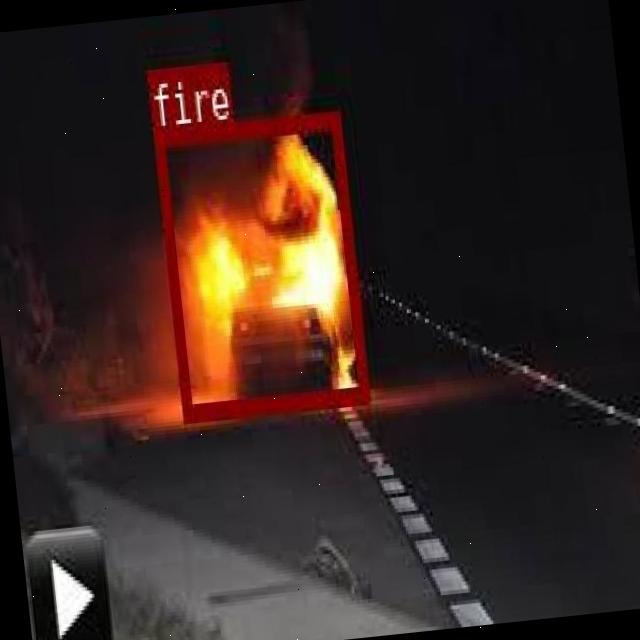fire: (152, 108, 367, 417)
